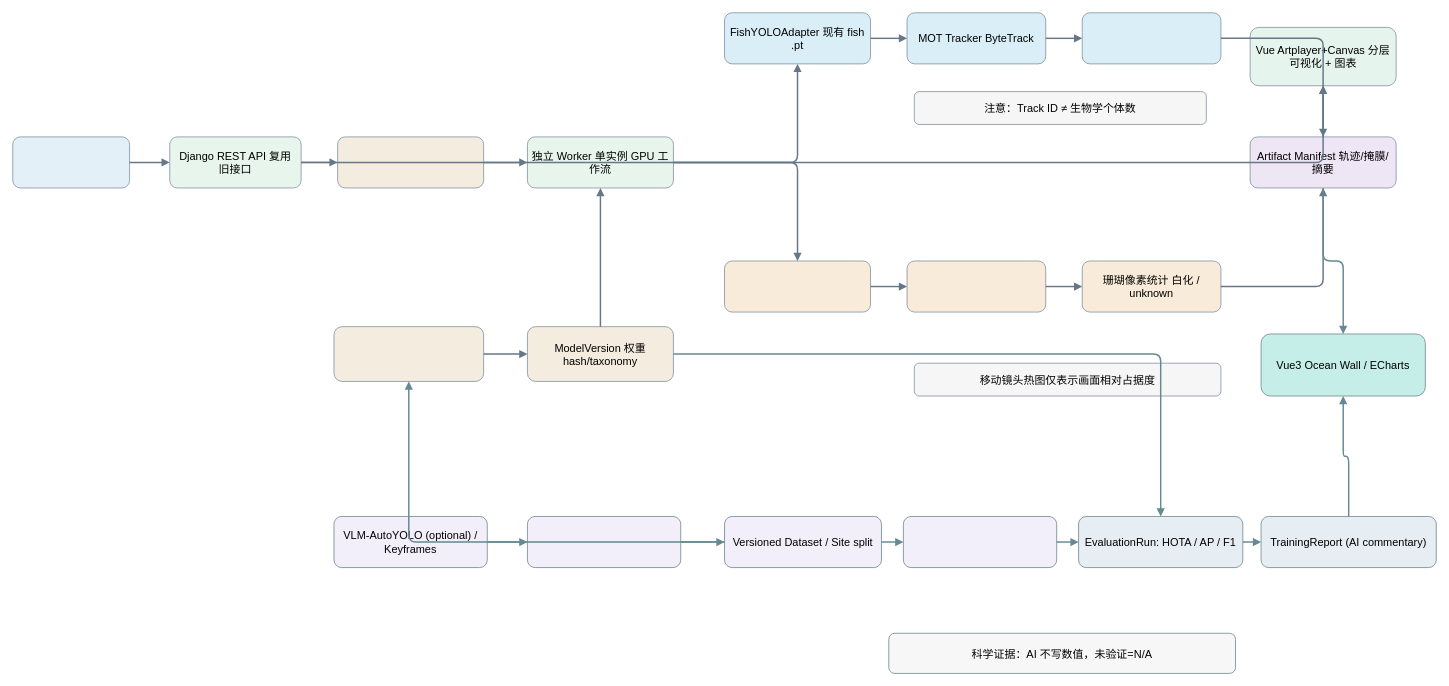
Some shapes in this 1449 by 686 pixel diagram are drawn without their labels. Each missing label, with the centre of its shape:
"AnalysisRun / SQLite 多模型多版本" belongs at point 410,162.
"CoralSegAdapter SegFormer 95 类" belongs at point 797,286.
"Human QA / CVAT / Provenance" belongs at point 604,542.
"track_id + JSONL 画面热图 track-seconds" belongs at point 1151,38.
"TrainingRun / fish and coral" belongs at point 980,542.
"Video Asset 上传视频" belongs at point 71,162.
"六类健康 mask 96 logits, ID0 void → 255" belongs at point 976,286.
"离线训练/标注 CVAT + HF / PyTorch" belongs at point 408,353.
